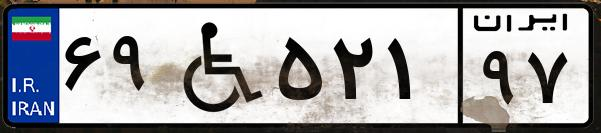1: (385, 28, 445, 110)
2: (330, 28, 385, 110)
5: (270, 28, 330, 110)
6: (57, 26, 110, 100)
7: (525, 38, 570, 115)
9: (475, 38, 525, 113), (110, 28, 158, 98)
ژ (معلولین و جانبازان): (158, 12, 270, 120)
